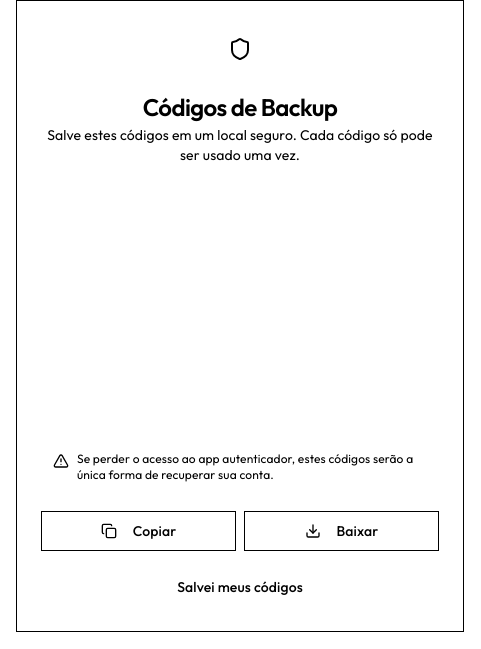
Test: MFABackupCodes › Copy functionality › shows check icon after copying
Click the button "Copiar" at (138,531), box left=41, top=511, right=236, bottom=551
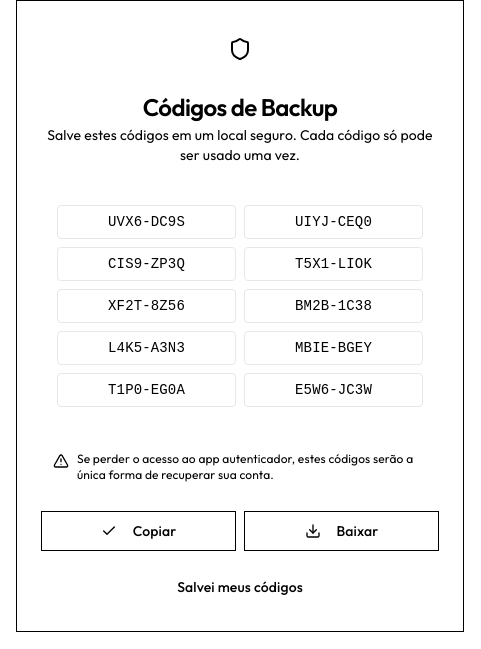
Expected: the icon with class "lucide-check" is shown, left=101, top=523, right=117, bottom=539
